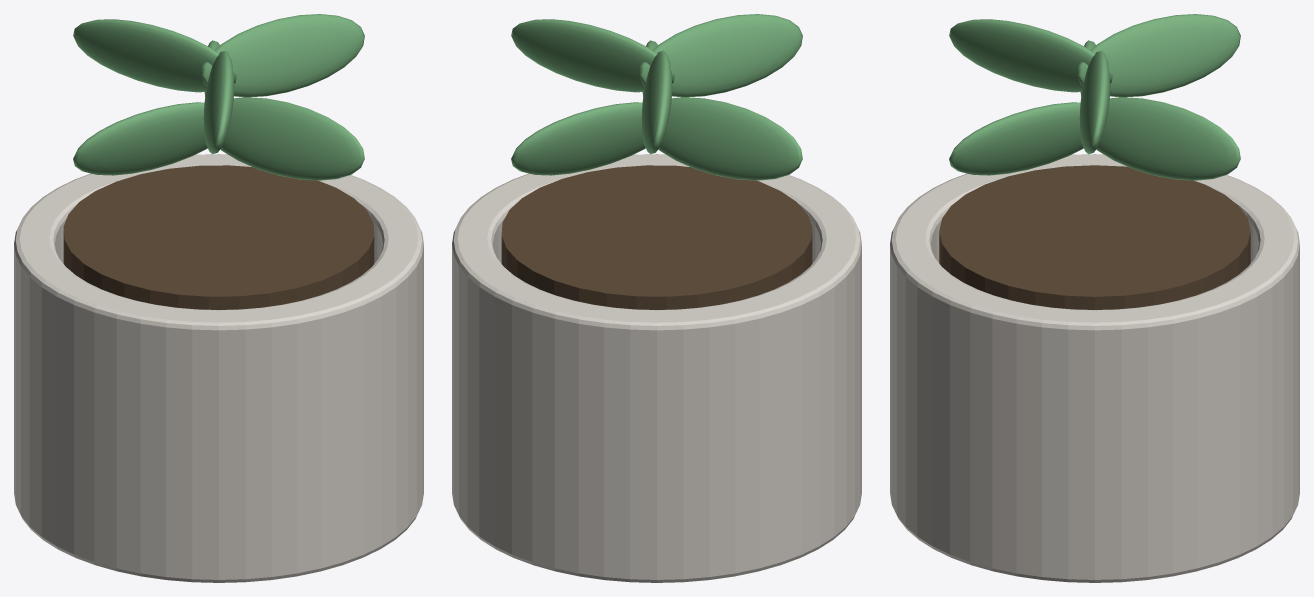
File: p2s_desk_planter_pilea.glb
The picture shows the model from 3 angles, left to right: view 1: azimuth 30°, elevation 25°; view 2: azimuth 150°, elevation 25°; view 3: azimuth 270°, elevation 25°; orthographic projection.
Parts seen in each view (by area): view 1: PlanterPot, PlanterSoil, Leaf_0, Leaf_5, Leaf_2, Leaf_3, Leaf_4; view 2: PlanterPot, PlanterSoil, Leaf_4, Leaf_3, Leaf_0, Leaf_1, Leaf_2; view 3: PlanterPot, PlanterSoil, Leaf_2, Leaf_1, Leaf_4, Leaf_5, Leaf_0.
Boxes of the visible parts, x1,y1,x2,y2 form: PlanterPot: [14, 154, 423, 582]; PlanterSoil: [63, 165, 374, 309]; Leaf_0: [201, 14, 364, 97]; Leaf_5: [220, 97, 364, 180]; Leaf_2: [73, 19, 236, 92]; Leaf_3: [73, 102, 207, 175]; Leaf_4: [203, 50, 234, 154]; PlanterPot: [452, 154, 861, 582]; PlanterSoil: [501, 165, 812, 309]; Leaf_4: [639, 14, 802, 97]; Leaf_3: [658, 97, 802, 180]; Leaf_0: [511, 19, 674, 92]; Leaf_1: [511, 102, 645, 175]; Leaf_2: [641, 50, 672, 154]; PlanterPot: [890, 154, 1299, 582]; PlanterSoil: [939, 165, 1250, 309]; Leaf_2: [1077, 14, 1240, 97]; Leaf_1: [1096, 97, 1240, 180]; Leaf_4: [949, 19, 1112, 92]; Leaf_5: [949, 102, 1083, 175]; Leaf_0: [1079, 50, 1110, 154].
Size of the model in its own units: 0.1 by 0.124 by 0.1.
